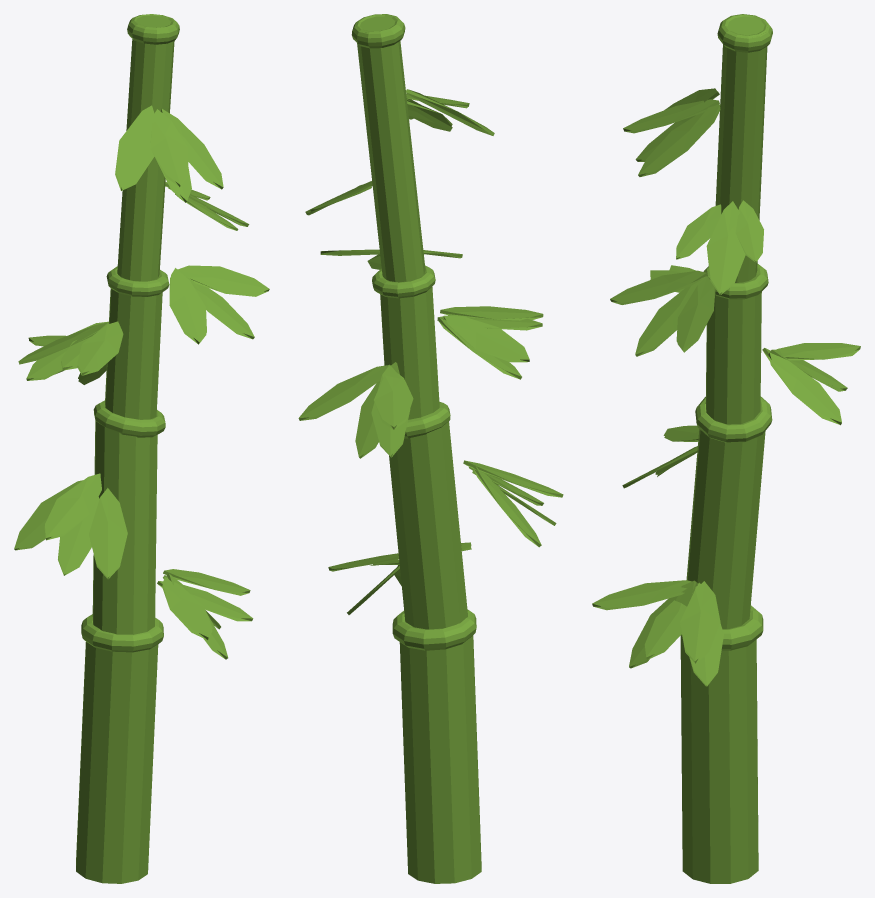
The model's file is sugarcane.gltf.
The picture shows the model from 3 angles, left to right: view 1: azimuth 30°, elevation 25°; view 2: azimuth 150°, elevation 25°; view 3: azimuth 270°, elevation 25°; orthographic projection. The views are drawn at different scales.
Parts seen in each view (by area): view 1: node_MeshObject16932864-PolyPaper21; view 2: node_MeshObject16932864-PolyPaper21; view 3: node_MeshObject16932864-PolyPaper21.
Boxes of the visible parts, x1=… form: node_MeshObject16932864-PolyPaper21: x1=14, y1=14, x2=269, y2=883; node_MeshObject16932864-PolyPaper21: x1=298, y1=14, x2=563, y2=883; node_MeshObject16932864-PolyPaper21: x1=592, y1=14, x2=860, y2=883.
Bounding box in the file's own units: 0.2557 × 0.8575 × 0.2395.
